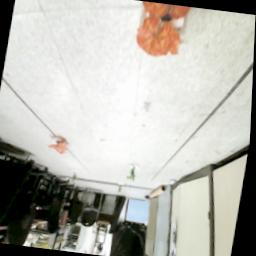herb: (127, 165, 140, 184)
wild: (132, 2, 191, 62), (48, 138, 72, 158)
